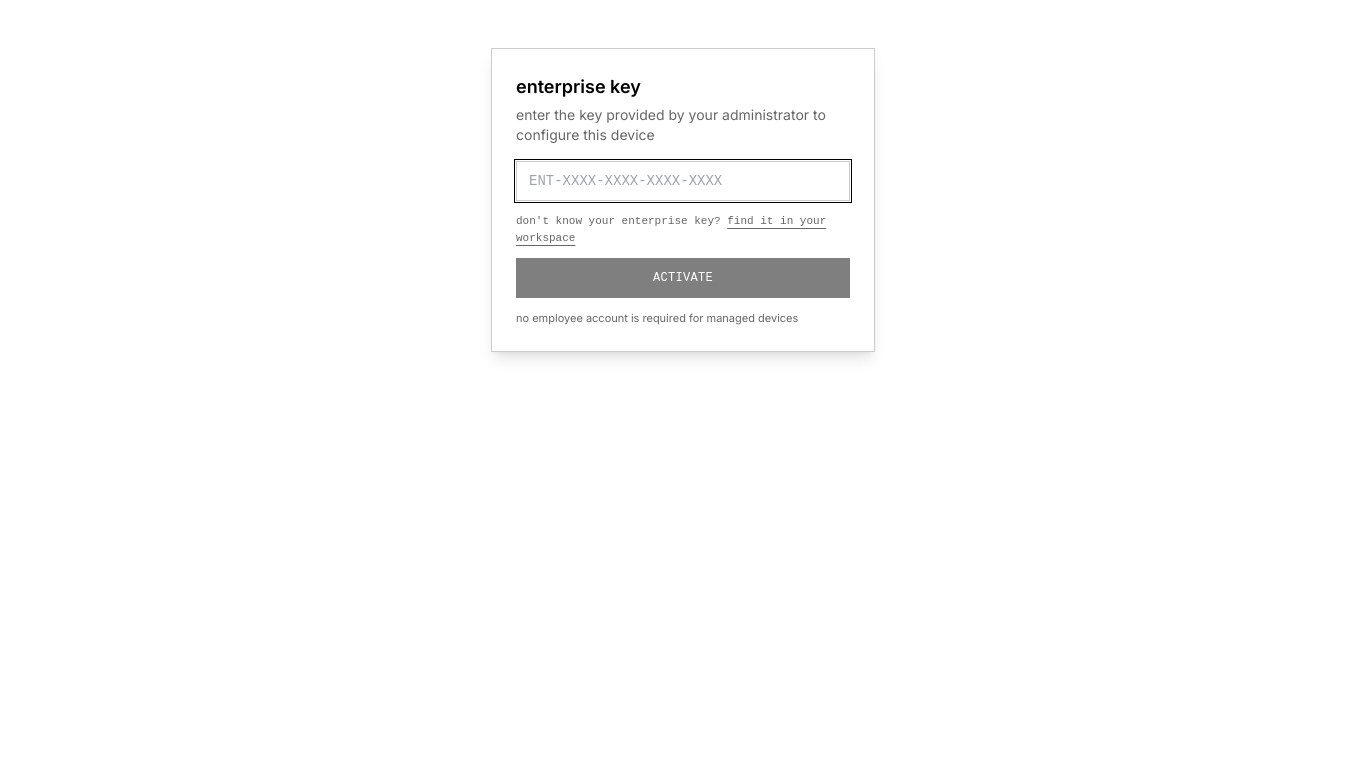
EnterpriseLicensePrompt › shows validation errors and re-enables submit
Later steps or results of the test are not shown.
Type "ENT-TEST-ONLY-PROM-0001" into the field with placeholder "ENT-XXXX-XXXX-XXXX-XXXX".
click(683, 181); type("ENT-TEST-ONLY-PROM-0001")  # box left=516, top=161, right=850, bottom=201
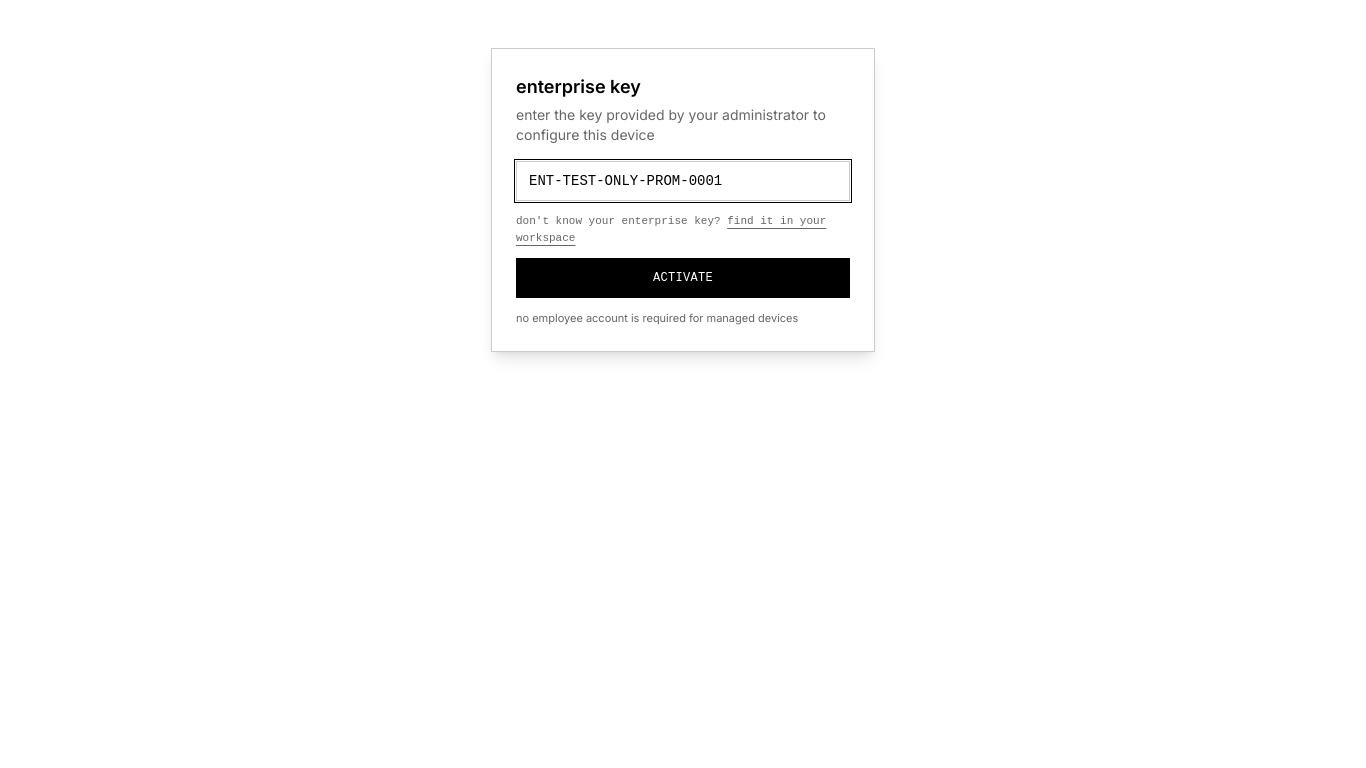
Click the button "activate".
click(683, 278)  # box left=516, top=258, right=850, bottom=298
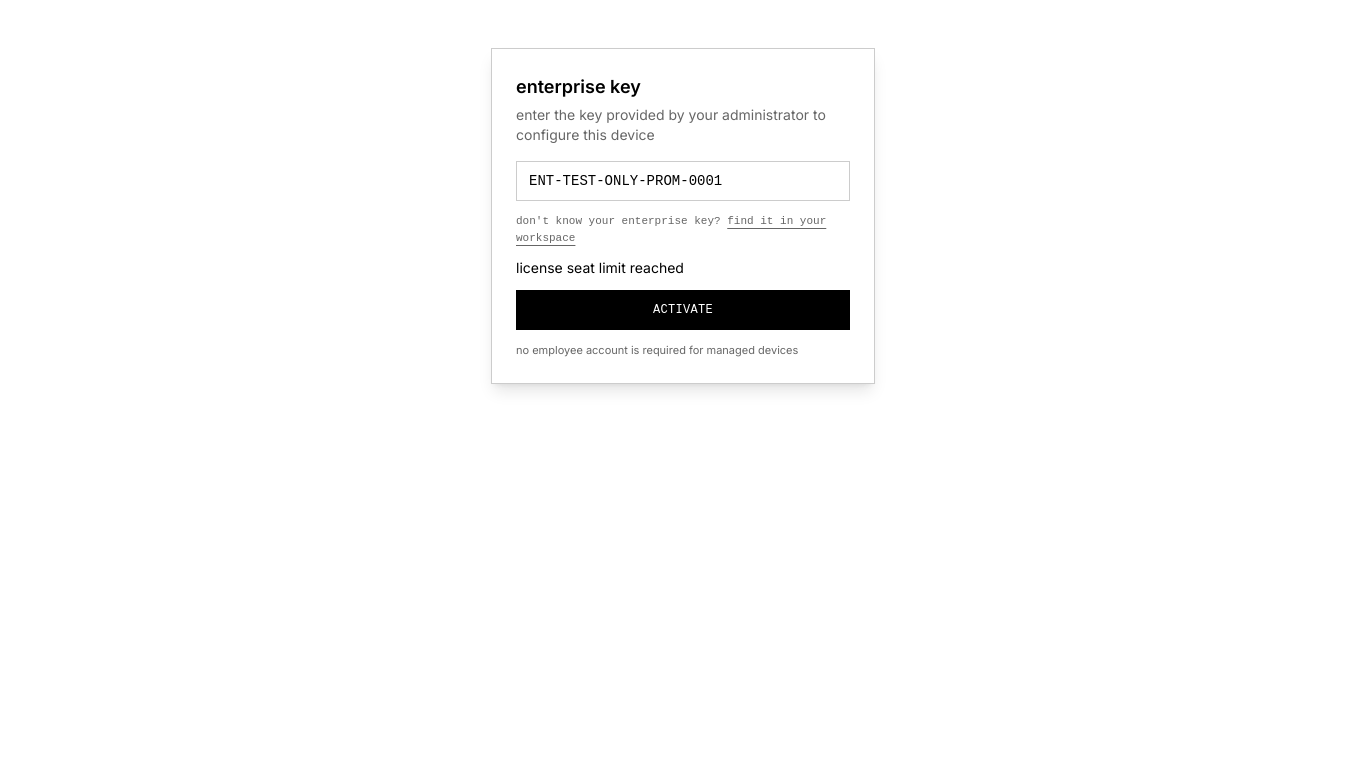
Result: the button "activate" is enabled at left=516, top=290, right=850, bottom=330
Result: the text "license seat limit reached" is shown at left=516, top=259, right=684, bottom=276
